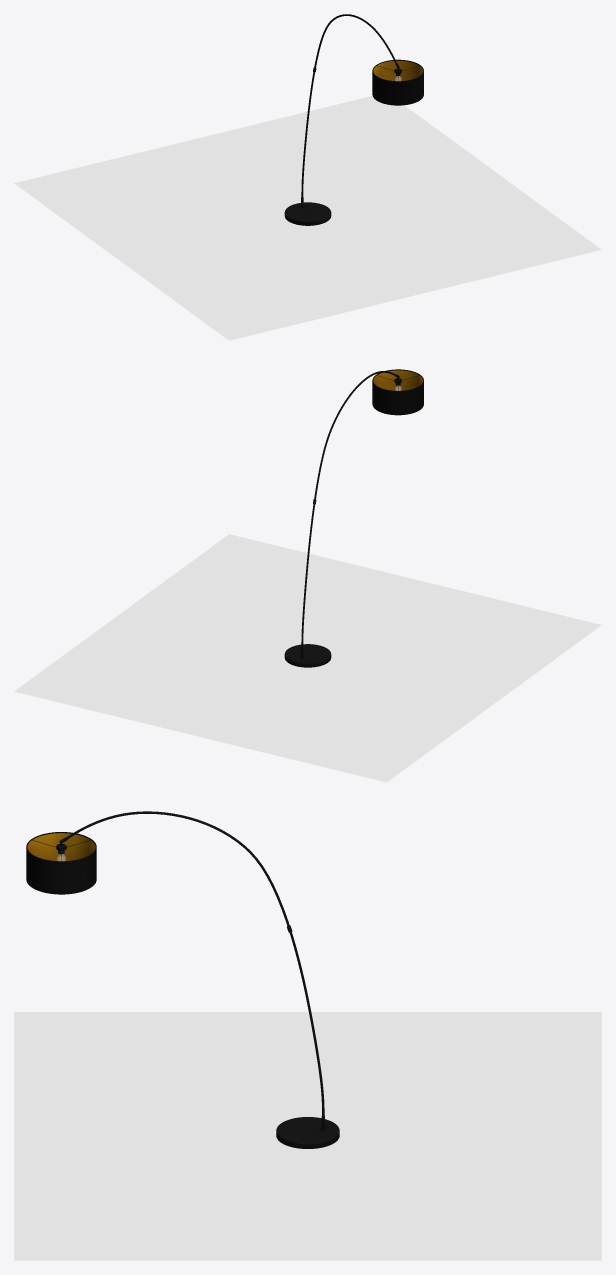
3 renders of one model, top to bottom at view 1: azimuth 30°, elevation 25°; view 2: azimuth 150°, elevation 25°; view 3: azimuth 270°, elevation 25°, orthographic. The views are drawn at different scales.
Visible parts, largest first — view 1: FLOOR, STEEL_MATT_GREY, LAMP_SHADE, COPPER; view 2: FLOOR, STEEL_MATT_GREY, LAMP_SHADE, COPPER; view 3: FLOOR, STEEL_MATT_GREY, LAMP_SHADE, COPPER.
Boxes of the visible parts, box(x1,y1,x2,y2) form: FLOOR: box(14, 96, 601, 340); STEEL_MATT_GREY: box(284, 14, 401, 225); LAMP_SHADE: box(372, 59, 423, 105); COPPER: box(373, 60, 423, 81); FLOOR: box(14, 534, 601, 782); STEEL_MATT_GREY: box(284, 371, 401, 667); LAMP_SHADE: box(372, 369, 423, 415); COPPER: box(373, 370, 423, 390); FLOOR: box(14, 1012, 601, 1260); STEEL_MATT_GREY: box(56, 811, 339, 1148); LAMP_SHADE: box(26, 832, 96, 894); COPPER: box(27, 833, 95, 861).
Size of the model in its own units: 334 by 204 by 334.
Materials: 8 (6 with a texture image).
